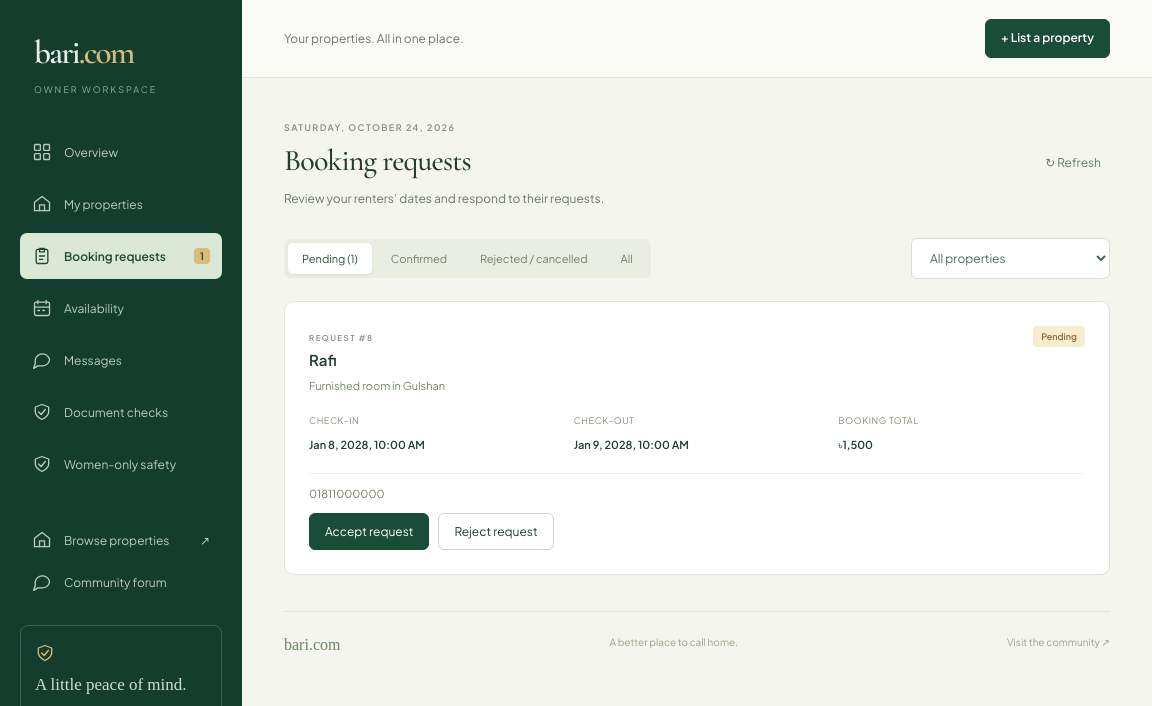
Test: accepts a pending booking and refreshes its status from the server
What coordinates should you click on to do the following:
click the button "Accept request"
I would click on:
 (369, 532)
Its box is x1=309 y1=513 x2=429 y2=550.
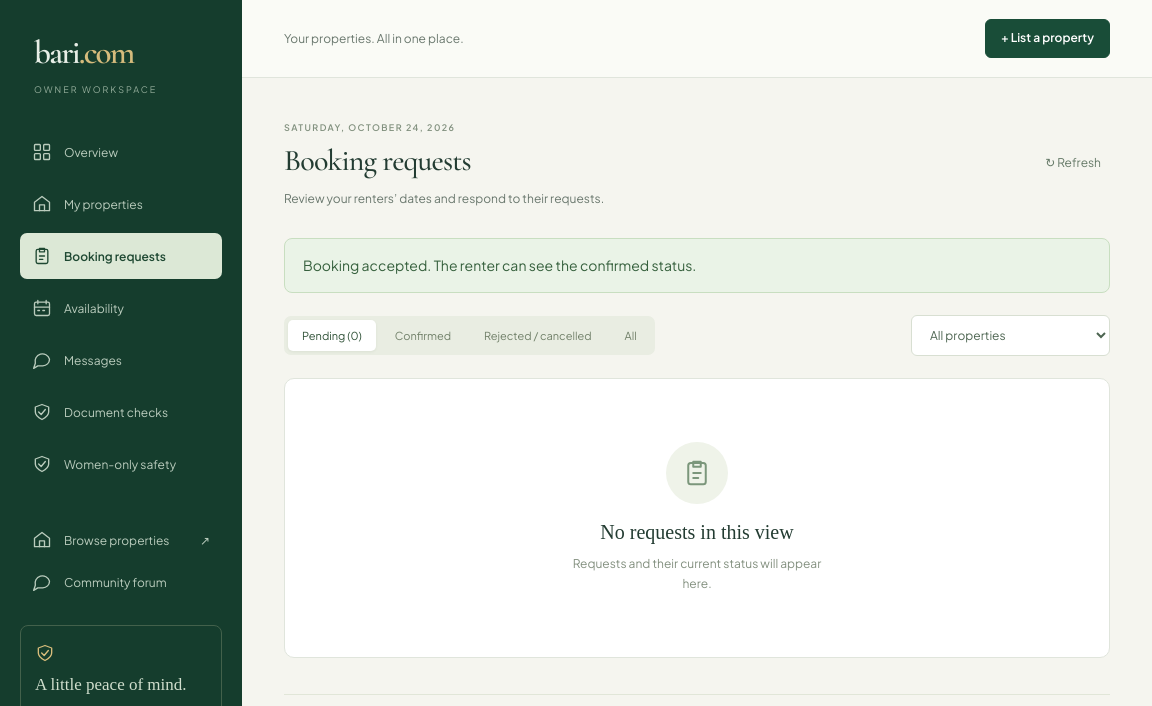
Expected: the text "Booking accepted. The renter can see the confirmed status." is shown, x1=284 y1=238 x2=1110 y2=292
What coordinates should you click on to do the following:
click the button "Confirmed"
I would click on:
 (423, 335)
Its box is x1=381 y1=320 x2=465 y2=350.
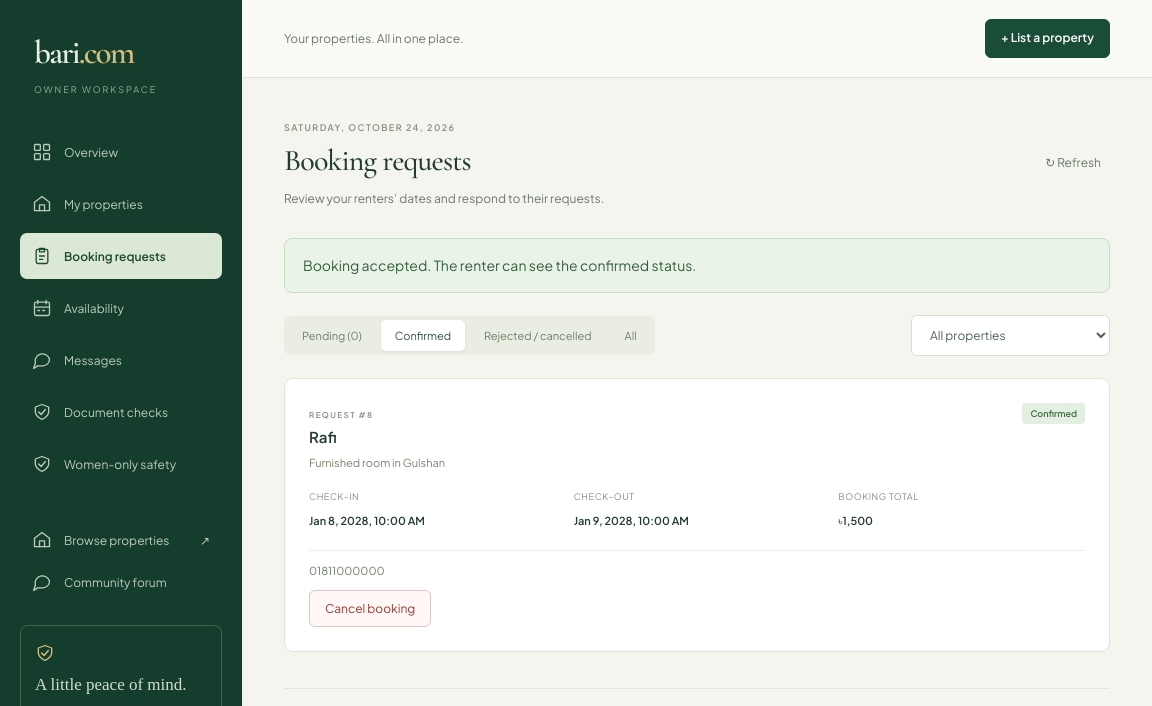
Expected: the button "Accept request" is not shown
Expected: the button "Cancel booking" is shown, x1=309 y1=590 x2=431 y2=627
